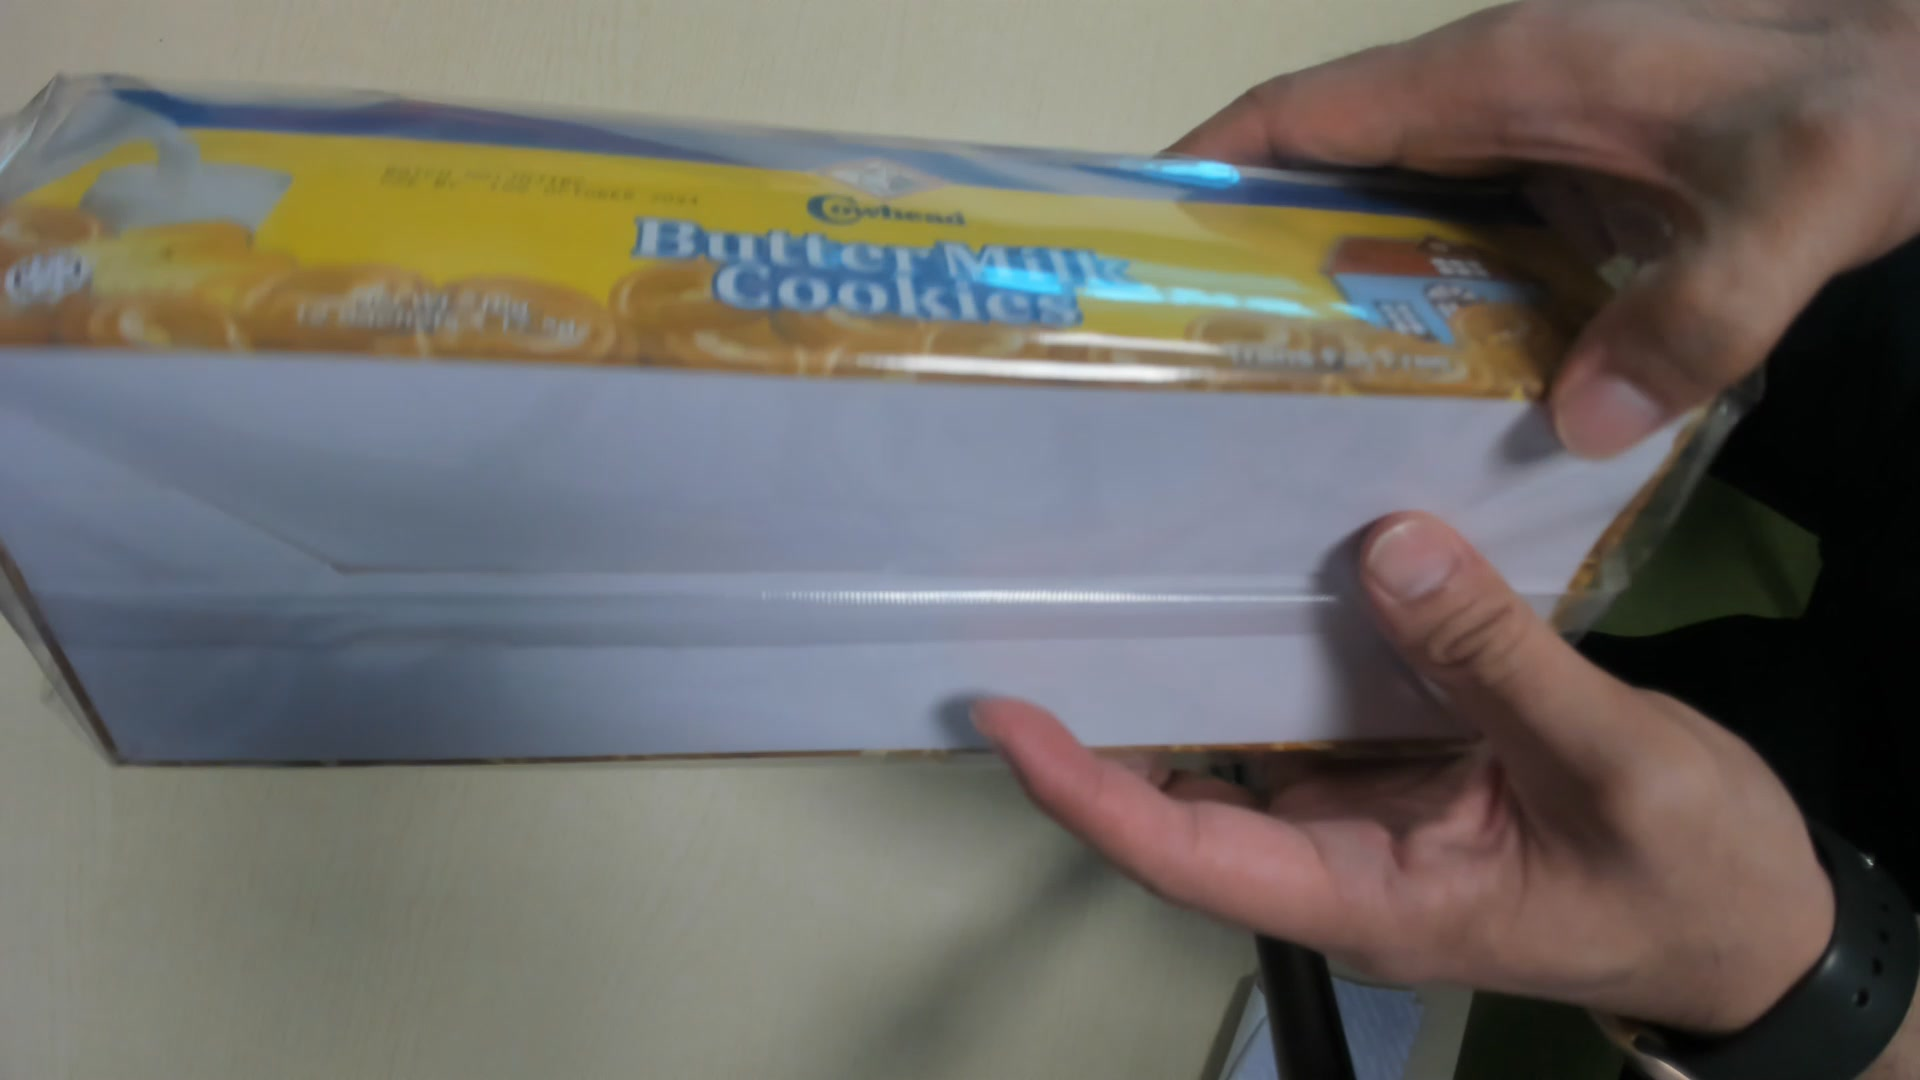SweetsChocolatesOthers_200-299g_Halal_Nonhealthy: (1, 73, 1691, 761)
